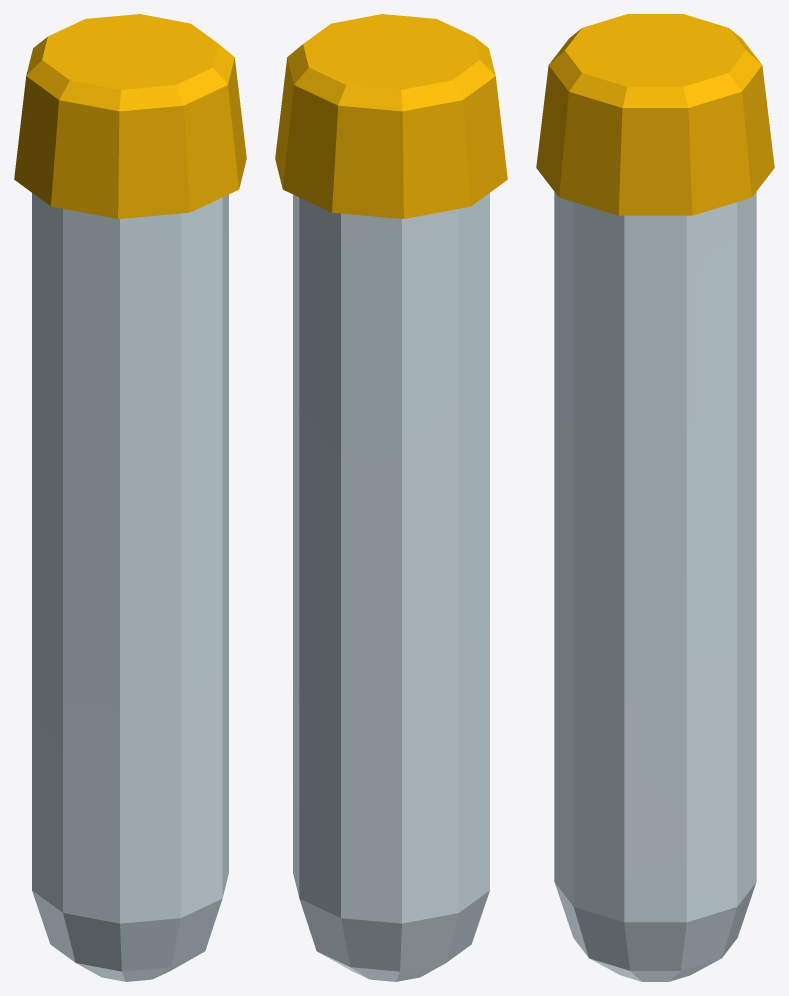
The picture shows the model from 3 angles, left to right: view 1: azimuth 30°, elevation 25°; view 2: azimuth 150°, elevation 25°; view 3: azimuth 270°, elevation 25°; orthographic projection.
Parts seen in each view (by area): view 1: test_tube_2; view 2: test_tube_2; view 3: test_tube_2.
Boxes of the visible parts, x1,y1,x2,y2 form: test_tube_2: [14, 14, 246, 981]; test_tube_2: [275, 14, 507, 981]; test_tube_2: [536, 14, 774, 981].
Size of the model in its own units: 0.0284 by 0.1262 by 0.0299.
1 material, 1 textured.
